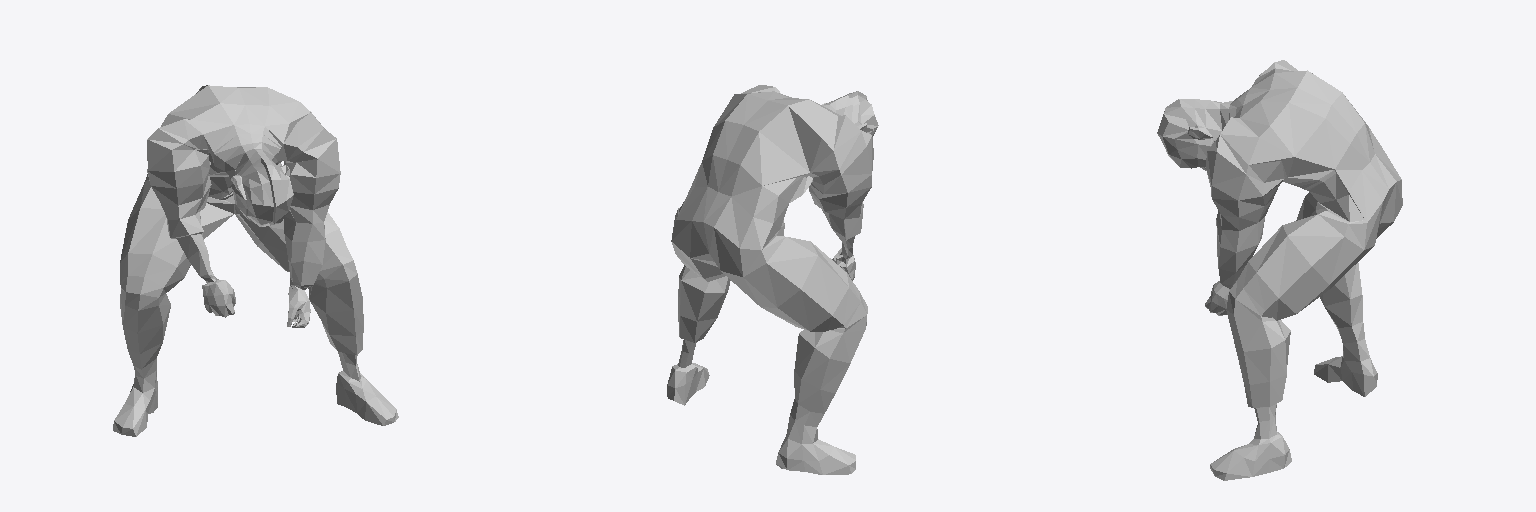
Rendered from ZombieAttack(62).obj.
The picture shows the model from 3 angles: view 1: azimuth 30°, elevation 25°; view 2: azimuth 150°, elevation 25°; view 3: azimuth 270°, elevation 25°; orthographic projection.
Parts seen in each view (by area): view 1: Plane002; view 2: Plane002; view 3: Plane002.
Boxes of the visible parts, x1=… form: Plane002: x1=113, y1=85, x2=398, y2=436; Plane002: x1=667, y1=85, x2=878, y2=474; Plane002: x1=1157, y1=60, x2=1402, y2=480.
Bounding box in the file's own units: 838 × 1177 × 775.